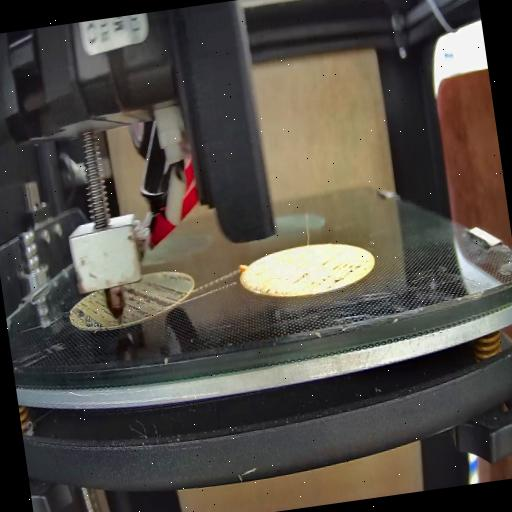under_extrusion: (125, 278, 195, 318), (71, 295, 106, 330)
